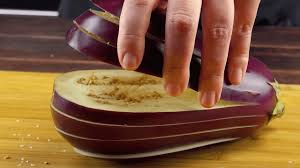eggplant: (42, 0, 294, 163)
